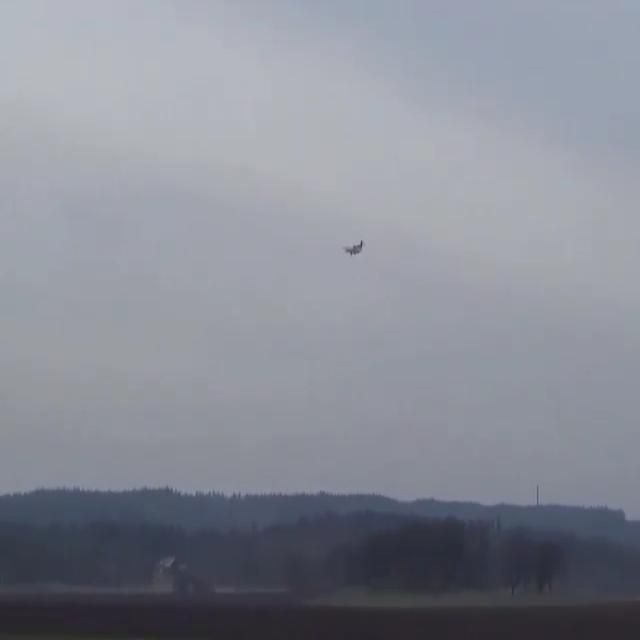AirPlane: (339, 236, 375, 266)
